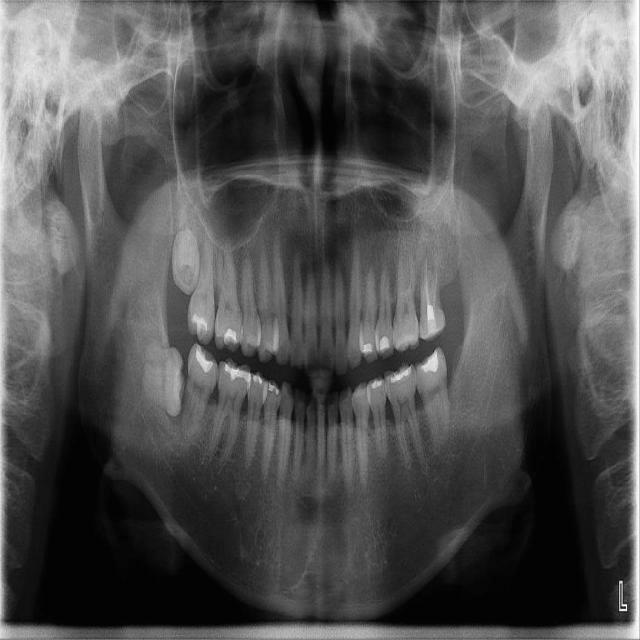Filling: (223, 363, 251, 389), (196, 344, 213, 372), (421, 351, 439, 373), (389, 367, 412, 383), (192, 315, 207, 339), (360, 328, 374, 353), (426, 305, 437, 335), (224, 330, 240, 345), (369, 379, 385, 390), (379, 336, 391, 350), (252, 374, 263, 386), (268, 383, 279, 395)
Periapical lesion: (369, 436, 398, 478), (419, 422, 432, 441)
Root Canal Treatment: (426, 256, 431, 306), (433, 274, 436, 306)
impacted tooth: (139, 348, 187, 416), (169, 211, 204, 295)
